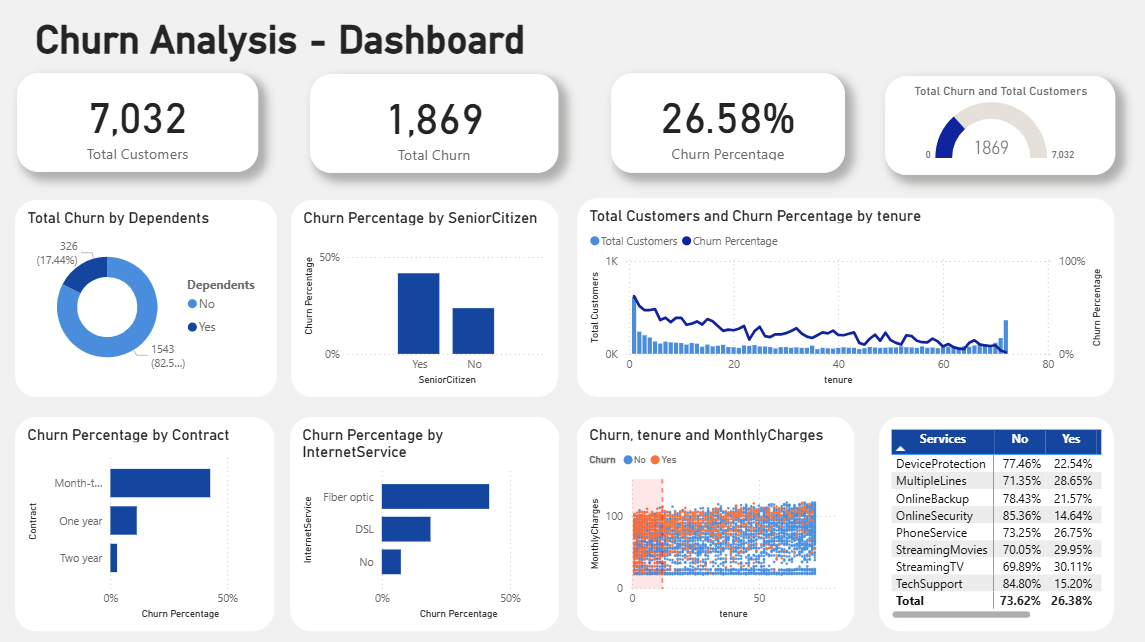

Layout of this report page (visuals, bound fields, positions):
{"tool":"powerbi","page":{"name":"Page 1","canvas":[1280,720],"ordinal":0},"visuals":[{"type":"card","fields":{"Values":["stg_Churn.total_customer"]},"box":[21.1,83.3,267.8,110],"z":0},{"type":"card","fields":{"Values":["stg_Churn.Total Churn"]},"box":[347.1,84.3,275.7,110],"z":1000},{"type":"card","fields":{"Values":["stg_Churn.Churn Percenteage"]},"box":[681.1,83.3,260,111.1],"z":2000},{"type":"clusteredBarChart","fields":{"Category":["stg_Churn.Contract"],"Y":["stg_Churn.Churn Percentage"]},"box":[18.9,465.6,287.8,237.8],"z":3000},{"type":"donutChart","fields":{"Category":["stg_Churn.Dependents"],"Y":["stg_Churn.Total Churn"]},"box":[19,224,291,219],"z":4000},{"type":"lineStackedColumnComboChart","fields":{"Category":["stg_Churn.tenure"],"Y":["stg_Churn.total_customer"],"Y2":["stg_Churn.Churn Percenteage"]},"box":[643.3,222.2,596.7,221.1],"z":5000},{"type":"lineStackedColumnComboChart","fields":{"Category":["stg_Churn.SeniorCitizen"],"Y":["stg_Churn.Churn Percentage"]},"box":[325,224,297,219],"z":6000},{"type":"pivotTable","fields":{"Rows":["stg_Churn_Long.Services"],"Columns":["stg_Churn_Long.Churn"],"Values":["stg_Churn_Long.Customers (Service On)"]},"box":[978.8,465,261.2,237.5],"z":7000},{"type":"barChart","fields":{"Category":["stg_Churn.InternetService"],"Y":["stg_Churn.Churn Percentage"]},"box":[324.4,465.6,298.9,237.8],"z":8000},{"type":"textbox","box":[37.1,15.7,575.7,71.4],"z":9000},{"type":"gauge","fields":{"MaxValue":["stg_Churn.Total Customers"],"Y":["stg_Churn.Total Churn"]},"box":[985.6,86.7,255.6,110],"z":10000},{"type":"scatterChart","fields":{"X":["stg_Churn.tenure"],"Y":["stg_Churn.MonthlyCharges"],"Series":["stg_Churn.Churn"]},"box":[643.3,465.6,307.8,237.8],"z":11000}]}

Visuals, with their boxes in screenshot pixels (x1, y1, x2, y2), scaled from the page's 1280x720 canvas onto the 1145x642 screenshot:
card - stg_Churn.total_customer: locate(19, 74, 258, 172)
card - stg_Churn.Total Churn: locate(310, 75, 557, 173)
card - stg_Churn.Churn Percenteage: locate(609, 74, 842, 173)
clusteredBarChart - stg_Churn.Contract x stg_Churn.Churn Percentage: locate(17, 415, 274, 627)
donutChart - stg_Churn.Dependents x stg_Churn.Total Churn: locate(17, 200, 277, 395)
lineStackedColumnComboChart - stg_Churn.tenure x stg_Churn.total_customer: locate(575, 198, 1109, 395)
lineStackedColumnComboChart - stg_Churn.SeniorCitizen x stg_Churn.Churn Percentage: locate(291, 200, 556, 395)
pivotTable - stg_Churn_Long.Services x stg_Churn_Long.Churn: locate(876, 415, 1109, 626)
barChart - stg_Churn.InternetService x stg_Churn.Churn Percentage: locate(290, 415, 558, 627)
textbox: locate(33, 14, 548, 78)
gauge - stg_Churn.Total Customers x stg_Churn.Total Churn: locate(882, 77, 1110, 175)
scatterChart - stg_Churn.tenure x stg_Churn.MonthlyCharges: locate(575, 415, 851, 627)
